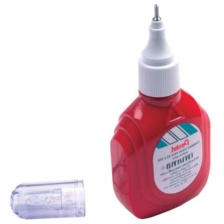correction_fluid: (108, 3, 214, 221)
